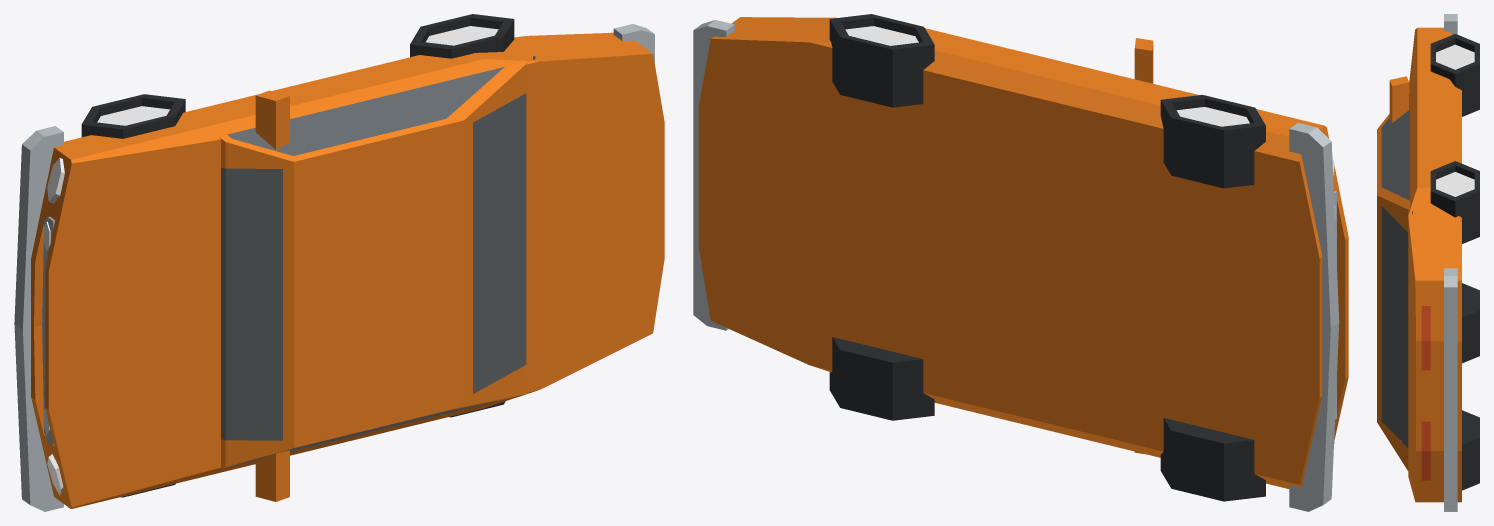
The model's file is tinker.obj.
3 views of the same model, side by side, from view 1: azimuth 30°, elevation 25°; view 2: azimuth 150°, elevation 25°; view 3: azimuth 270°, elevation 25° (orthographic). The views are drawn at different scales.
Visible parts, largest first — view 1: group_0_16089887, group_0_6383466, group_0_12568524, group_0_2829873, group_0_16448250; view 2: group_0_16089887, group_0_2829873, group_0_12568524, group_0_16448250; view 3: group_0_16089887, group_0_6383466, group_0_2829873, group_0_12568524, group_0_16448250, group_0_14897954.
Part boxes in pixels (x1,y1,x2,y2): group_0_16089887: [31, 32, 664, 508]; group_0_6383466: [221, 56, 535, 466]; group_0_12568524: [14, 24, 654, 511]; group_0_2829873: [81, 14, 514, 497]; group_0_16448250: [43, 26, 498, 495]; group_0_16089887: [698, 17, 1348, 488]; group_0_2829873: [829, 14, 1265, 501]; group_0_12568524: [693, 20, 1339, 511]; group_0_16448250: [845, 26, 1335, 443]; group_0_16089887: [1377, 27, 1461, 502]; group_0_6383466: [1381, 93, 1412, 447]; group_0_2829873: [1430, 34, 1479, 490]; group_0_12568524: [1444, 14, 1457, 511]; group_0_16448250: [1436, 44, 1474, 196]; group_0_14897954: [1421, 306, 1430, 480].
Size of the model in its own units: 130 by 78.5 by 23.
